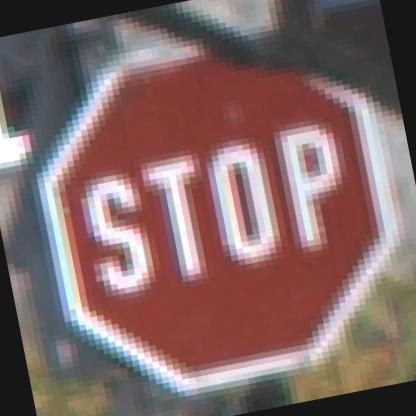stop: (13, 2, 415, 415)
